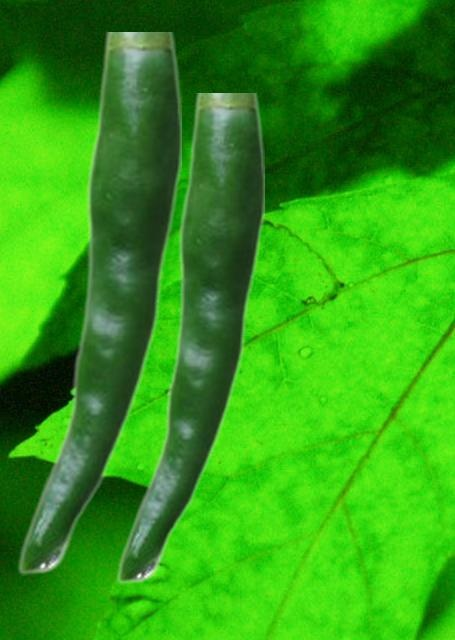green_chili: (16, 32, 180, 574), (115, 93, 263, 583)
